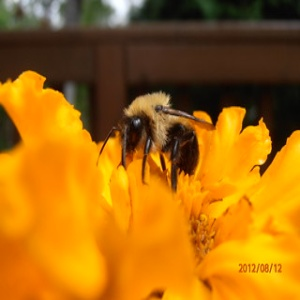bee: (93, 89, 219, 199)
